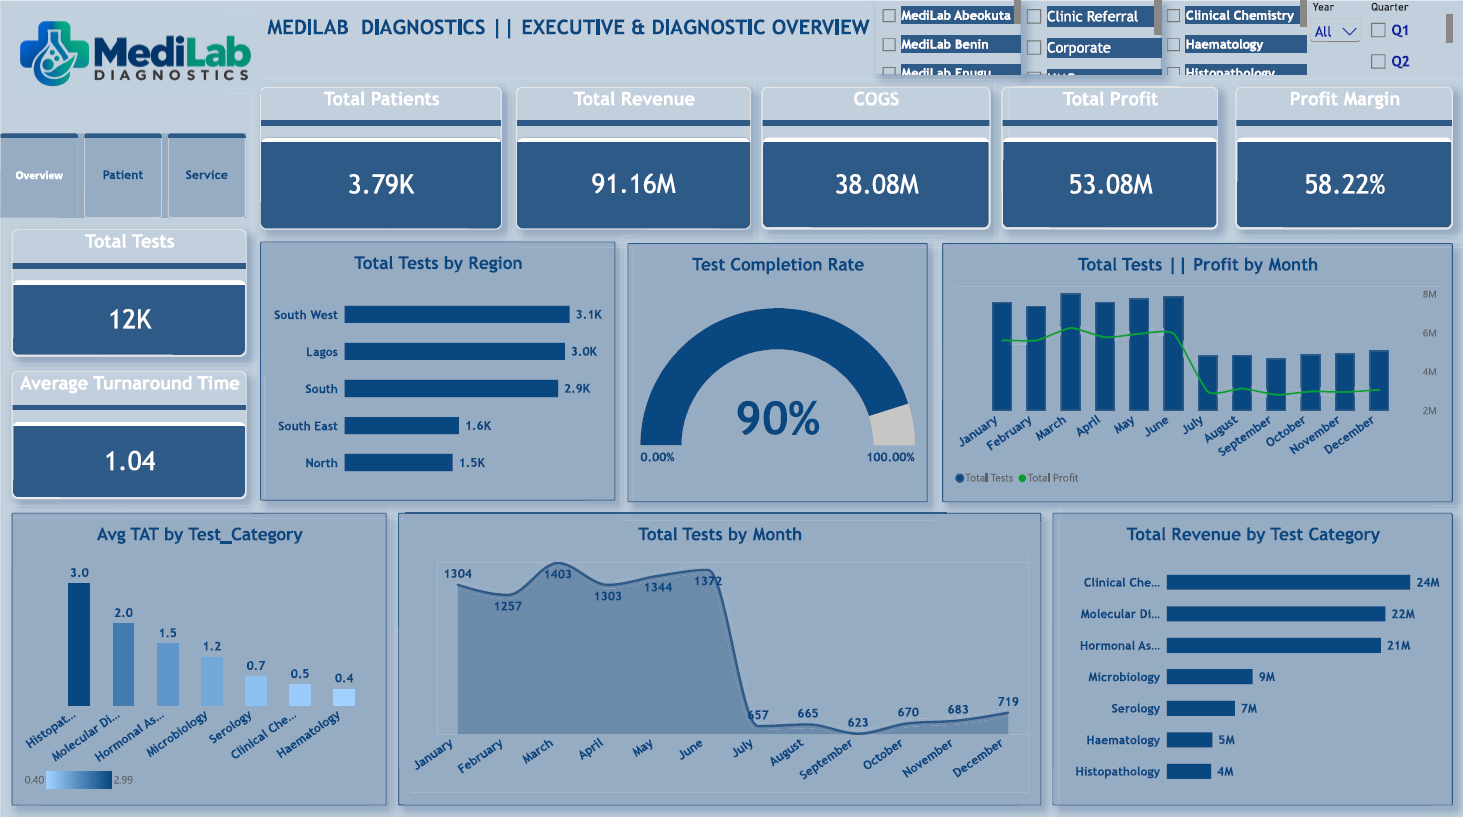

What the dashboard file says about the page in this screenshot:
{"tool":"powerbi","page":{"name":"Overview","canvas":[1920,1080],"ordinal":0},"visuals":[{"type":"cardVisual","title":"Total Tests","fields":{"Data":["Calculated Measures.Total Tests"]},"box":[14.7,299.6,308,167.6],"z":0},{"type":"cardVisual","title":"Total Patients","fields":{"Data":["Calculated Measures.Total Patients"]},"box":[341.5,113.1,316.3,186.4],"z":1000},{"type":"cardVisual","title":"Total Revenue","fields":{"Data":["Calculated Measures.Total Revenue"]},"box":[676.7,113.1,308,186.4],"z":2000},{"type":"cardVisual","title":"COGS","fields":{"Data":["Calculated Measures.COGS"]},"box":[999.3,113.1,299.6,186.4],"z":3000},{"type":"cardVisual","title":"Total Profit","fields":{"Data":["Calculated Measures.Total Profit"]},"box":[1313.5,113.1,284.9,186.4],"z":4000},{"type":"cardVisual","title":"Profit Margin","fields":{"Data":["Calculated Measures.Profit Margin"]},"box":[1621.5,113.1,284.9,186.4],"z":5000},{"type":"cardVisual","title":"Average Turnaround Time","fields":{"Data":["Calculated Measures.Avg TAT"]},"box":[14.7,486,308,167.6],"z":6000},{"type":"areaChart","title":"Total Tests by Month","fields":{"Category":["CalendarDim.MonthName"],"Y":["Calculated Measures.Total Tests"]},"box":[521.6,672.5,844.3,383.4],"z":7000},{"type":"lineClusteredColumnComboChart","title":"Total Tests || Profit by Month","fields":{"Category":["CalendarDim.MonthName"],"Y":["Calculated Measures.Total Tests"],"Y2":["Calculated Measures.Total Profit"]},"box":[1236,318.4,670.4,339.4],"z":8000},{"type":"clusteredBarChart","fields":{"Category":["BranchDim.Region"],"Y":["Calculated Measures.Total Tests"]},"box":[341.5,316.3,465.1,339.4],"z":9000},{"type":"clusteredBarChart","title":"Total Revenue by Test Category","fields":{"Category":["TestDim.Test_Category"],"Y":["Calculated Measures.Total Revenue"]},"box":[1380.6,672.5,525.8,383.4],"z":10000},{"type":"gauge","title":"Test Completion Rate","fields":{"Y":["Calculated Measures.Completion Rate"]},"box":[823.3,318.4,393.8,339.4],"z":11000},{"type":"clusteredColumnChart","fields":{"Category":["TestDim.Test_Category"],"Y":["Calculated Measures.Avg TAT"]},"box":[14.7,672.5,492.3,383.4],"z":12000},{"type":"image","box":[14.7,0,326.8,136.2],"z":13000},{"type":"textbox","box":[341.5,18.9,808.6,77.5],"z":14000},{"type":"slicer","fields":{"Values":["TrnsactionFact.Customer_Type"]},"box":[1338.7,0,184.4,96.4],"z":15000},{"type":"slicer","fields":{"Values":["BranchDim.Branch_Name"]},"box":[1150.1,0,188.5,96.4],"z":16000},{"type":"slicer","fields":{"Values":["TestDim.Test_Category"]},"box":[1523,0,190.6,96.4],"z":17000},{"type":"pageNavigator","box":[0,173.9,322.6,111],"z":18000},{"type":"slicer","fields":{"Values":["CalendarDim.Year"]},"box":[1713.6,0,77.5,106.8],"z":19000},{"type":"slicer","fields":{"Values":["CalendarDim.Quarter"]},"box":[1791.2,0,115.2,96.4],"z":20000}]}

Visuals, with their boxes in screenshot pixels (x1, y1, x2, y2), scaled from the page's 1920x1080 canvas onto the 1463x817 screenshot:
"Total Tests" cardVisual: rect(11, 227, 246, 353)
"Total Patients" cardVisual: rect(260, 86, 501, 227)
"Total Revenue" cardVisual: rect(516, 86, 750, 227)
"COGS" cardVisual: rect(761, 86, 990, 227)
"Total Profit" cardVisual: rect(1001, 86, 1218, 227)
"Profit Margin" cardVisual: rect(1236, 86, 1453, 227)
"Average Turnaround Time" cardVisual: rect(11, 368, 246, 494)
"Total Tests by Month" areaChart: rect(397, 509, 1041, 799)
"Total Tests || Profit by Month" lineClusteredColumnComboChart: rect(942, 241, 1453, 498)
clusteredBarChart - BranchDim.Region x Calculated Measures.Total Tests: rect(260, 239, 615, 496)
"Total Revenue by Test Category" clusteredBarChart: rect(1052, 509, 1453, 799)
"Test Completion Rate" gauge: rect(627, 241, 927, 498)
clusteredColumnChart - TestDim.Test_Category x Calculated Measures.Avg TAT: rect(11, 509, 386, 799)
image: rect(11, 0, 260, 103)
textbox: rect(260, 14, 876, 73)
slicer - TrnsactionFact.Customer_Type: rect(1020, 0, 1161, 73)
slicer - BranchDim.Branch_Name: rect(876, 0, 1020, 73)
slicer - TestDim.Test_Category: rect(1160, 0, 1306, 73)
pageNavigator: rect(0, 132, 246, 216)
slicer - CalendarDim.Year: rect(1306, 0, 1365, 81)
slicer - CalendarDim.Quarter: rect(1365, 0, 1453, 73)
